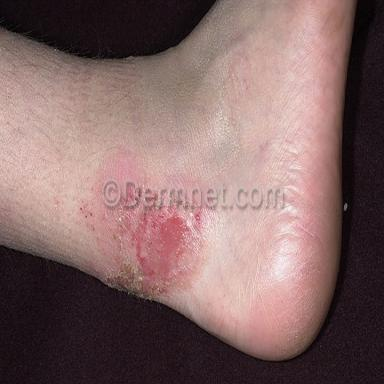Impetigo: (100, 206, 204, 300)
